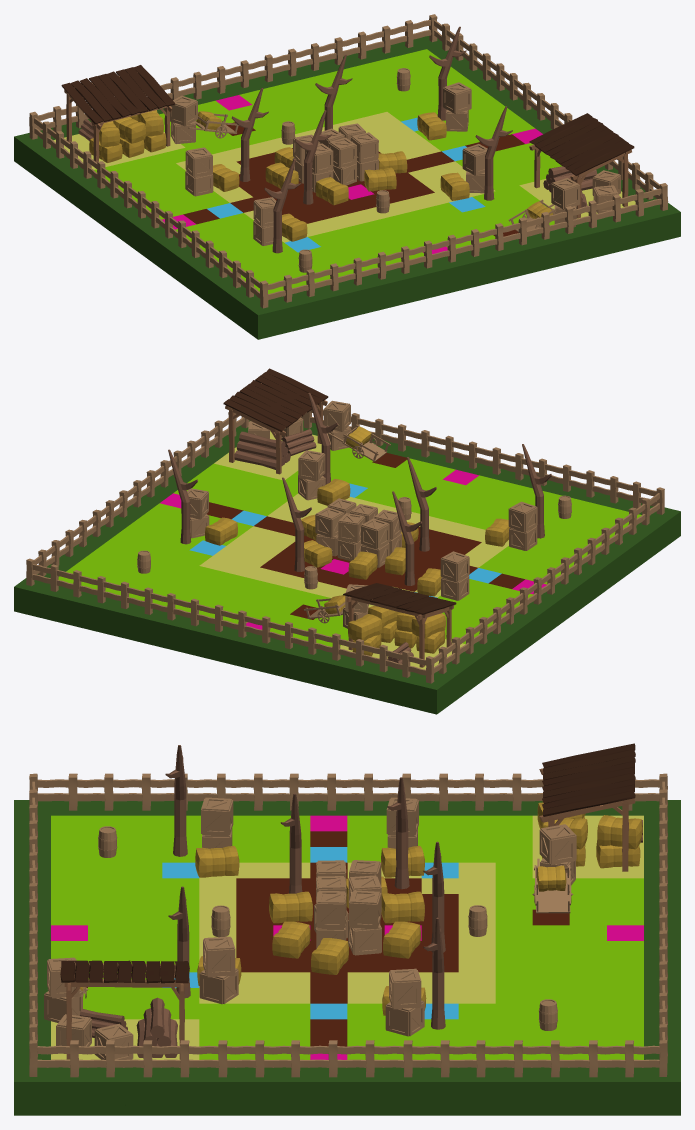
The model's file is LDTest02.fbx.
The picture shows the model from 3 angles, top to bottom: view 1: azimuth 30°, elevation 25°; view 2: azimuth 150°, elevation 25°; view 3: azimuth 270°, elevation 25°; orthographic projection. The views are drawn at different scales.
Visible parts, largest first — view 1: sol, sol contour, shelter.026, shelter.054, TreeBody.003, TreeBody.002, TreeBody.004, TreeBody.006, TreeBody.005, woodbox.014, woodbox.004, TreeBody (+20 smaller); view 2: sol, sol contour, shelter.054, shelter.026, Wood.018, TreeBody.005, TreeBody.003, TreeBody, TreeBody.004, TreeBody.002, woodbox.008, woodbox.007 (+19 smaller); view 3: sol, sol contour, shelter.026, shelter.054, Wood.018, TreeBody.002, TreeBody.005, woodbox.003, TreeBody.003, straw Bale.003, straw Bale.010, woodbox.014 (+29 smaller).
Boxes of the visible parts, box(x1,y1,x2,y2) form: sol: box(53, 49, 635, 293); sol contour: box(14, 36, 680, 339); shelter.026: box(61, 65, 175, 162); shelter.054: box(529, 113, 634, 218); TreeBody.003: box(231, 88, 268, 181); TreeBody.002: box(264, 159, 301, 253); TreeBody.004: box(295, 110, 332, 204); TreeBody.006: box(475, 106, 512, 200); TreeBody.005: box(429, 26, 466, 120); woodbox.014: box(443, 82, 471, 114); woodbox.004: box(551, 178, 579, 209); TreeBody: box(315, 54, 352, 130); sol: box(58, 430, 641, 669); sol contour: box(14, 420, 680, 714); shelter.054: box(223, 368, 328, 474); shelter.026: box(343, 583, 456, 667); Wood.018: box(234, 431, 290, 469); TreeBody.005: box(168, 449, 197, 544); TreeBody.003: box(392, 491, 421, 585); TreeBody: box(282, 477, 311, 571); TreeBody.004: box(407, 457, 436, 551); TreeBody.002: box(522, 444, 551, 538); woodbox.008: box(508, 501, 537, 532); woodbox.007: box(440, 551, 469, 581); sol: box(51, 815, 643, 1059); sol contour: box(14, 800, 680, 1115); shelter.026: box(539, 743, 635, 871); shelter.054: box(60, 960, 189, 1059); Wood.018: box(136, 997, 177, 1057); TreeBody.002: box(165, 745, 187, 856); TreeBody.005: box(423, 917, 445, 1029); woodbox.003: box(539, 824, 576, 865); TreeBody.003: box(387, 777, 409, 889); straw Bale.003: box(195, 846, 239, 877); straw Bale.010: box(269, 891, 312, 923); woodbox.014: box(389, 968, 421, 1009).
Size of the model in its own units: 3600 by 913 by 3600.
